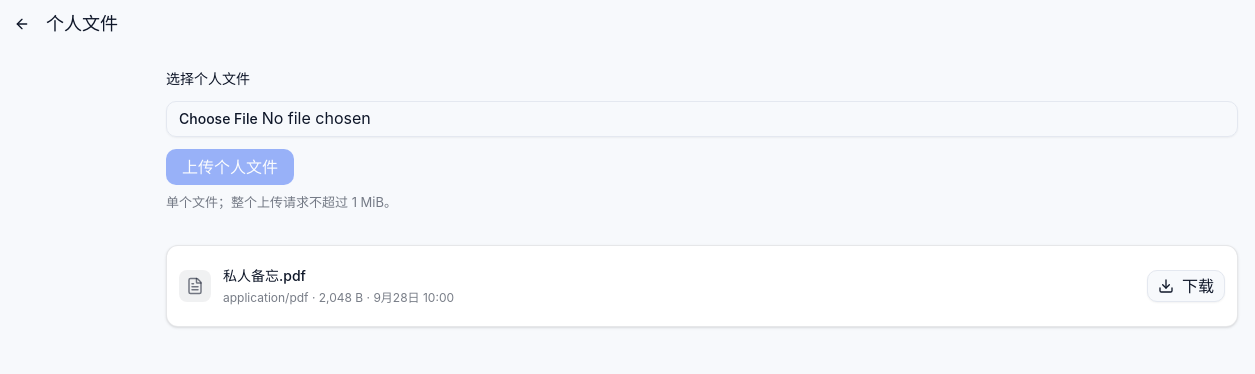
Scenario: 文件下载 404 在同一私有卡就近显示错误，并只由用户重试
Click the button with test id "library-file-download": (1186, 286) [1147,270,1225,302]
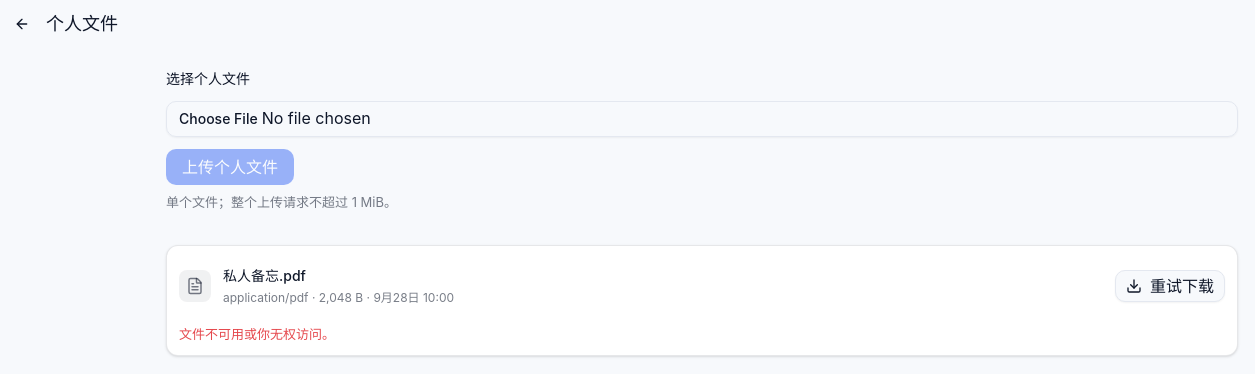
Expected: the message shows "文件不可用或你无权访问", [179,326,335,342]
Click the button with test id "library-file-download": (1170, 286) [1115,270,1225,302]
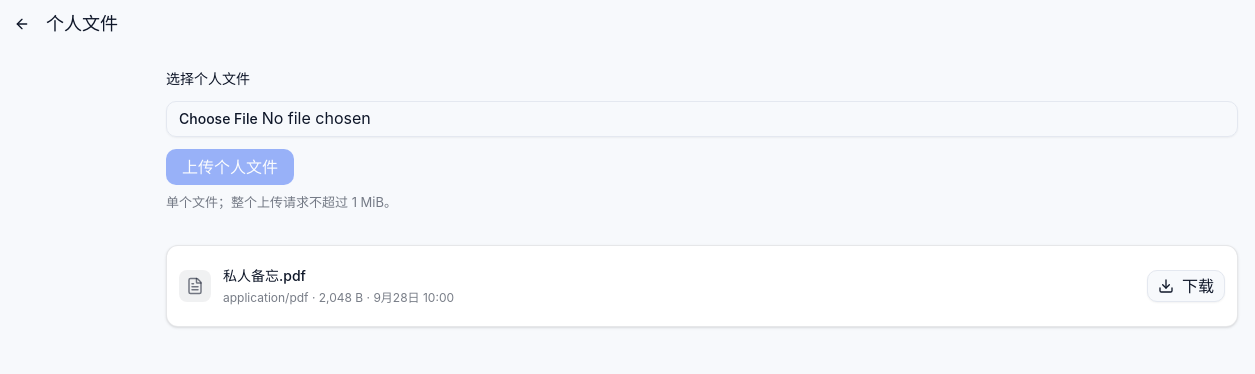
Expected: the message "文件不可用或你无权访问。" is gone
